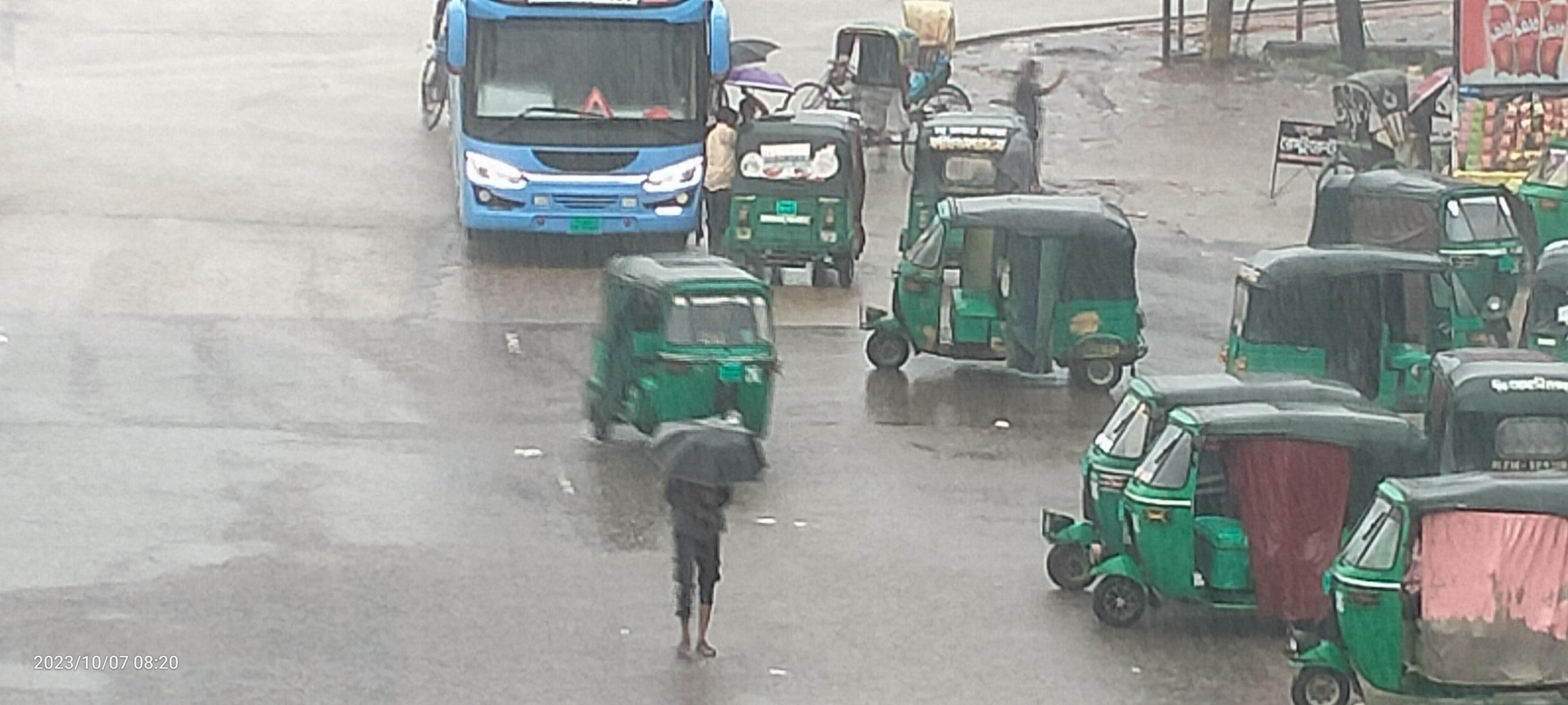Bus: (420, 0, 759, 274)
Car: (773, 6, 905, 158), (1290, 41, 1425, 183), (881, 0, 985, 121)
